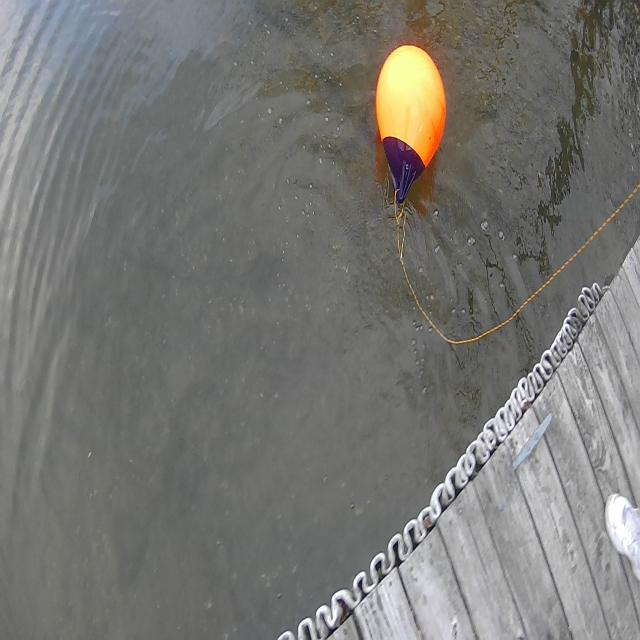Buoy: (370, 35, 451, 213)
